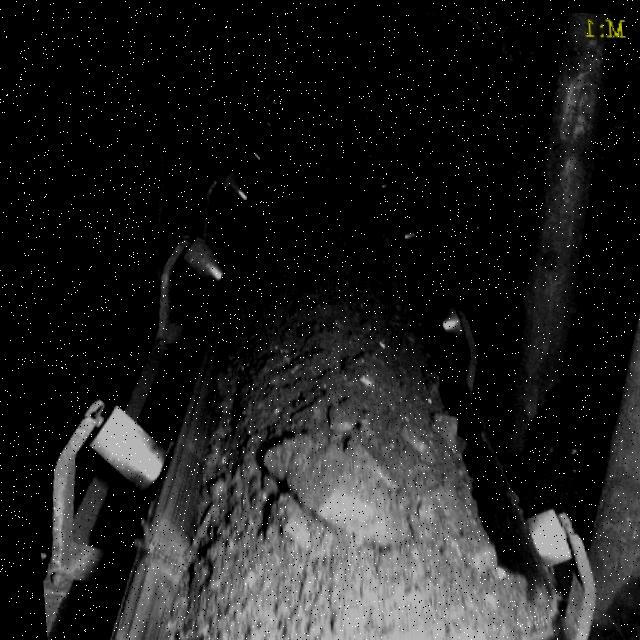large_sized_coal: (254, 433, 398, 535)
